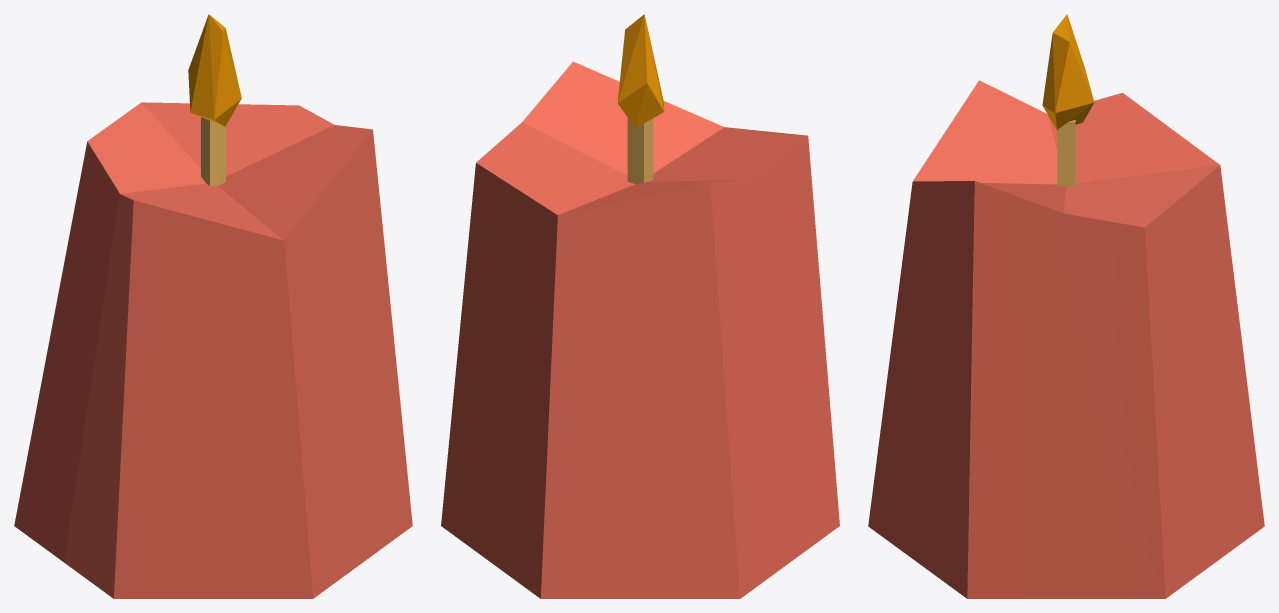
File: Candle_02.fbx
The picture shows the model from 3 angles, left to right: view 1: azimuth 30°, elevation 25°; view 2: azimuth 150°, elevation 25°; view 3: azimuth 270°, elevation 25°; orthographic projection.
Parts seen in each view (by area): view 1: Candle_02; view 2: Candle_02; view 3: Candle_02.
Part boxes in pixels (bbox=[...]): Candle_02: bbox=[14, 14, 412, 598]; Candle_02: bbox=[441, 14, 839, 598]; Candle_02: bbox=[868, 14, 1264, 598].
Bounding box in the file's own units: 11.12 × 18.23 × 12.84.
